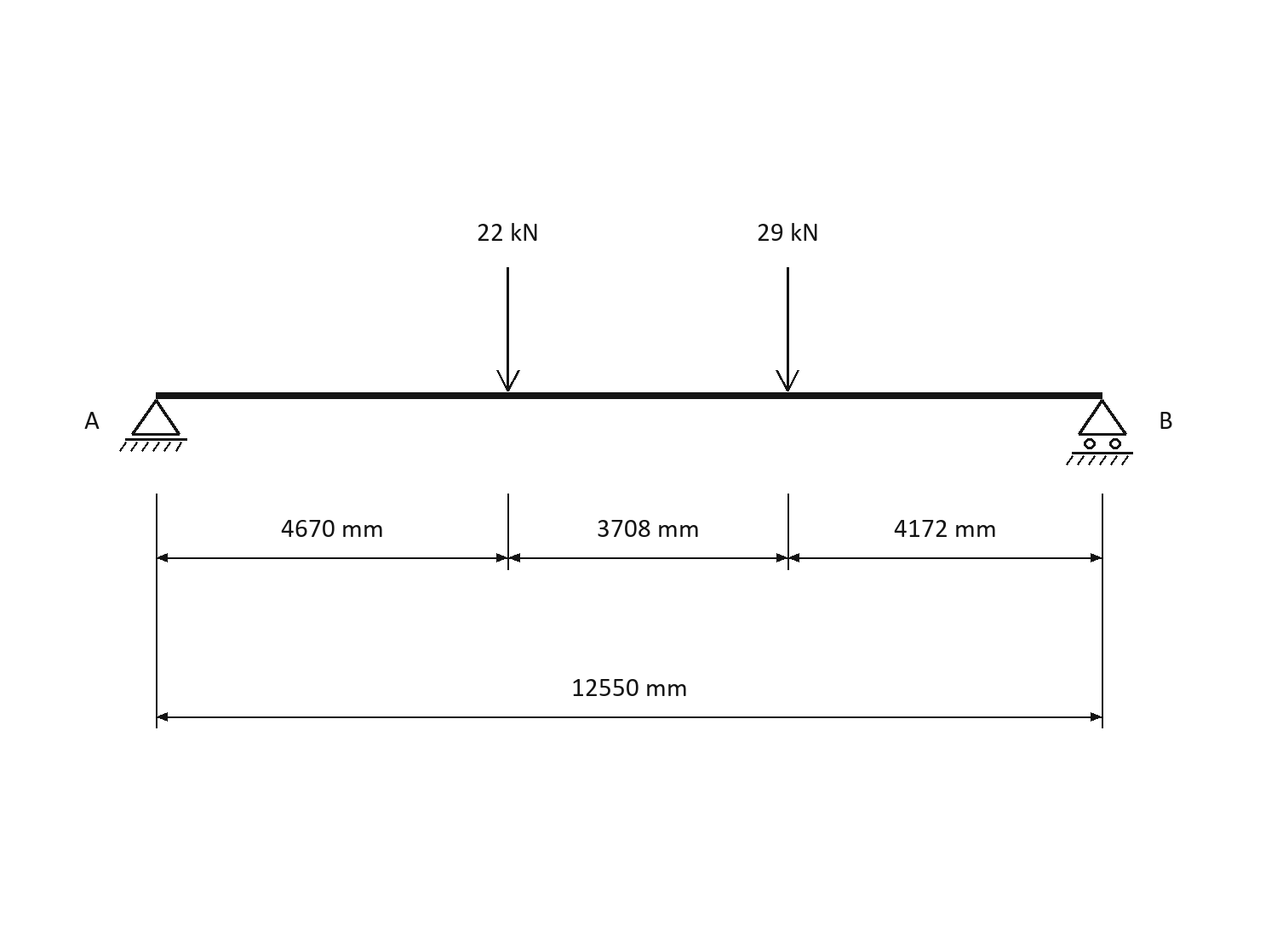pin_support: (119, 399, 187, 452)
point_load: (496, 267, 520, 391), (776, 267, 799, 391)
roller_support: (1066, 399, 1133, 465)
